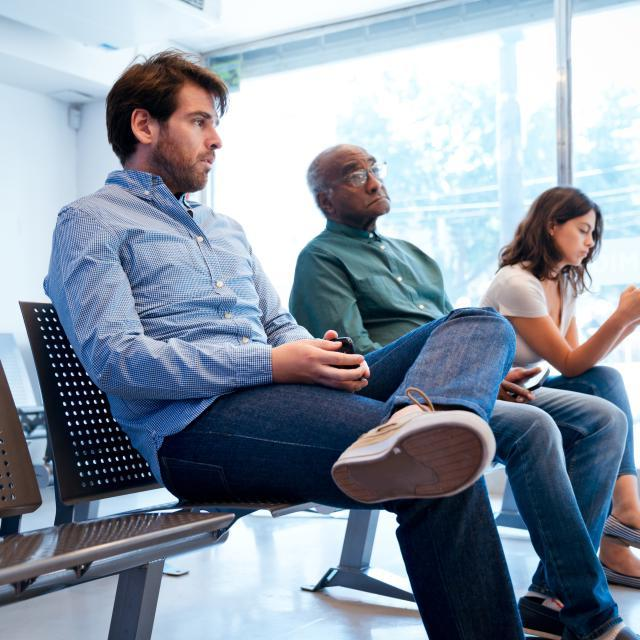long sleeve shirt: (42, 166, 320, 486), (289, 216, 460, 365)
short sleeve shirt: (476, 258, 576, 394)
trousers: (155, 306, 527, 640), (488, 386, 629, 626), (544, 365, 636, 476)
